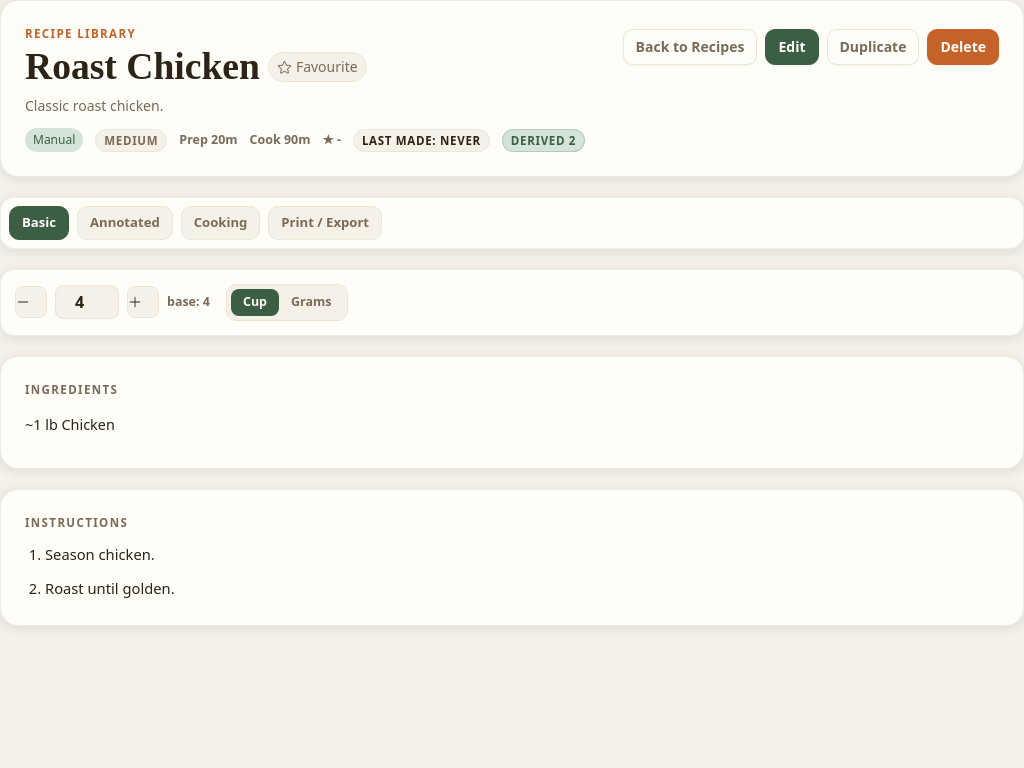
it: RecipeDetail duplicate draft flow › opens a derived recipes modal when multiple derived recipes exist
Click the button "Derived 2": (543, 140) top-left (502, 129), bottom-right (585, 152)
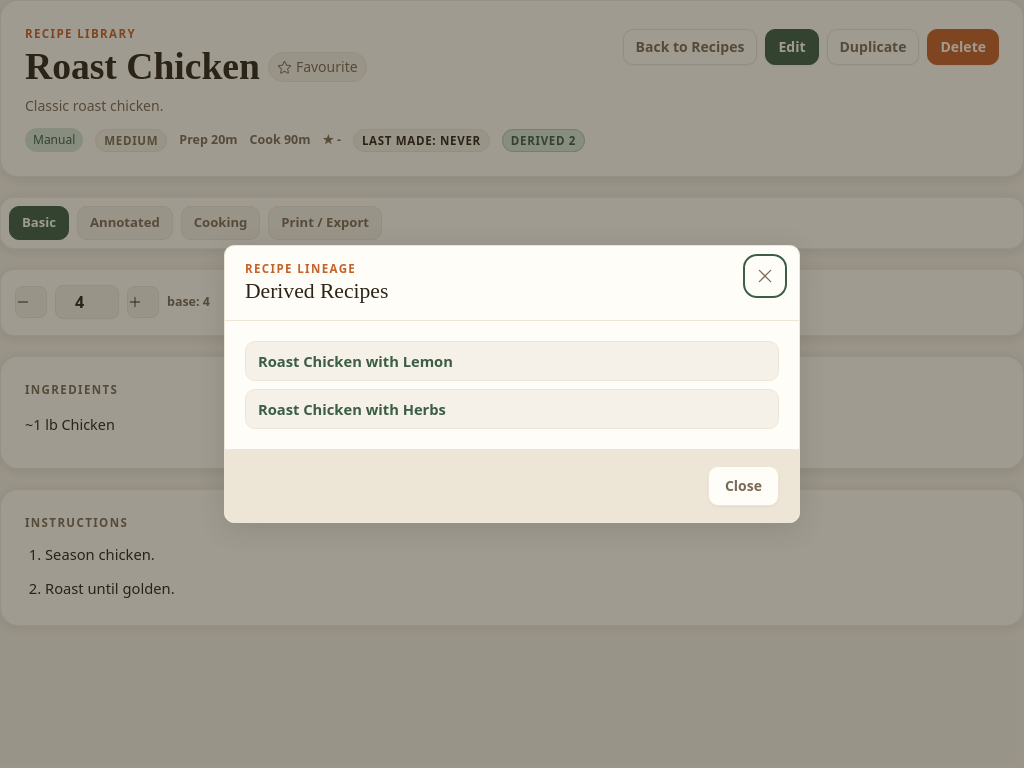
Expected: the dialog "Derived Recipes" is shown, top-left (224, 245), bottom-right (800, 523)
Click the button "Close": (743, 486) top-left (708, 466), bottom-right (779, 506)
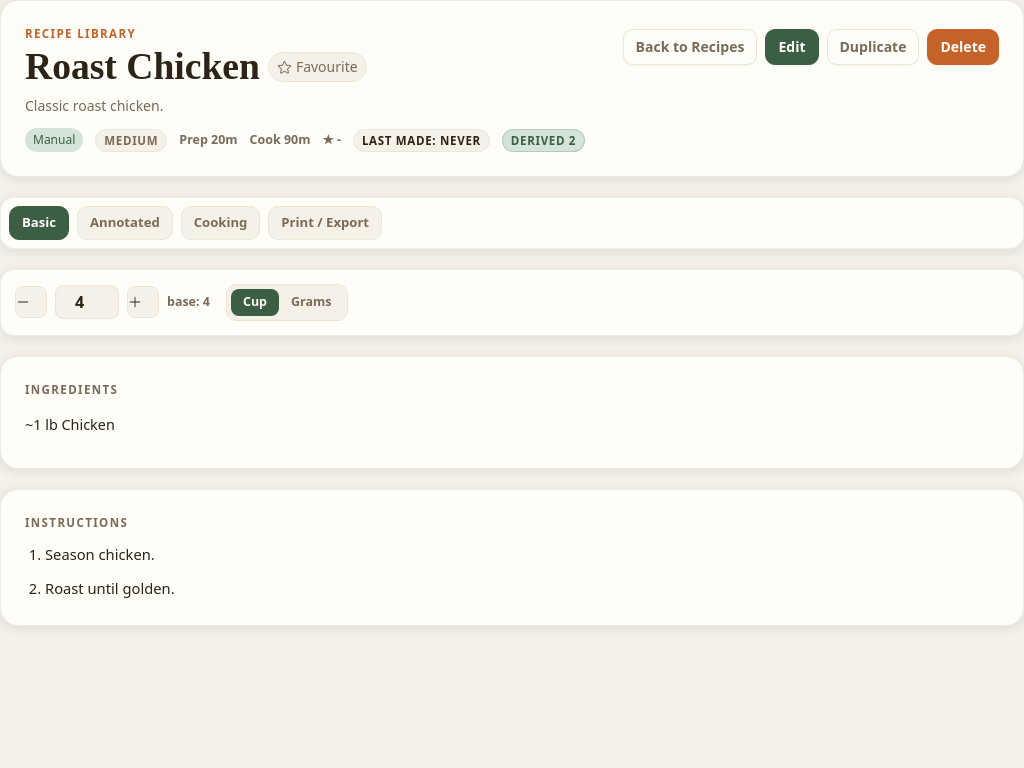
Expected: the heading "Derived Recipes" is gone
